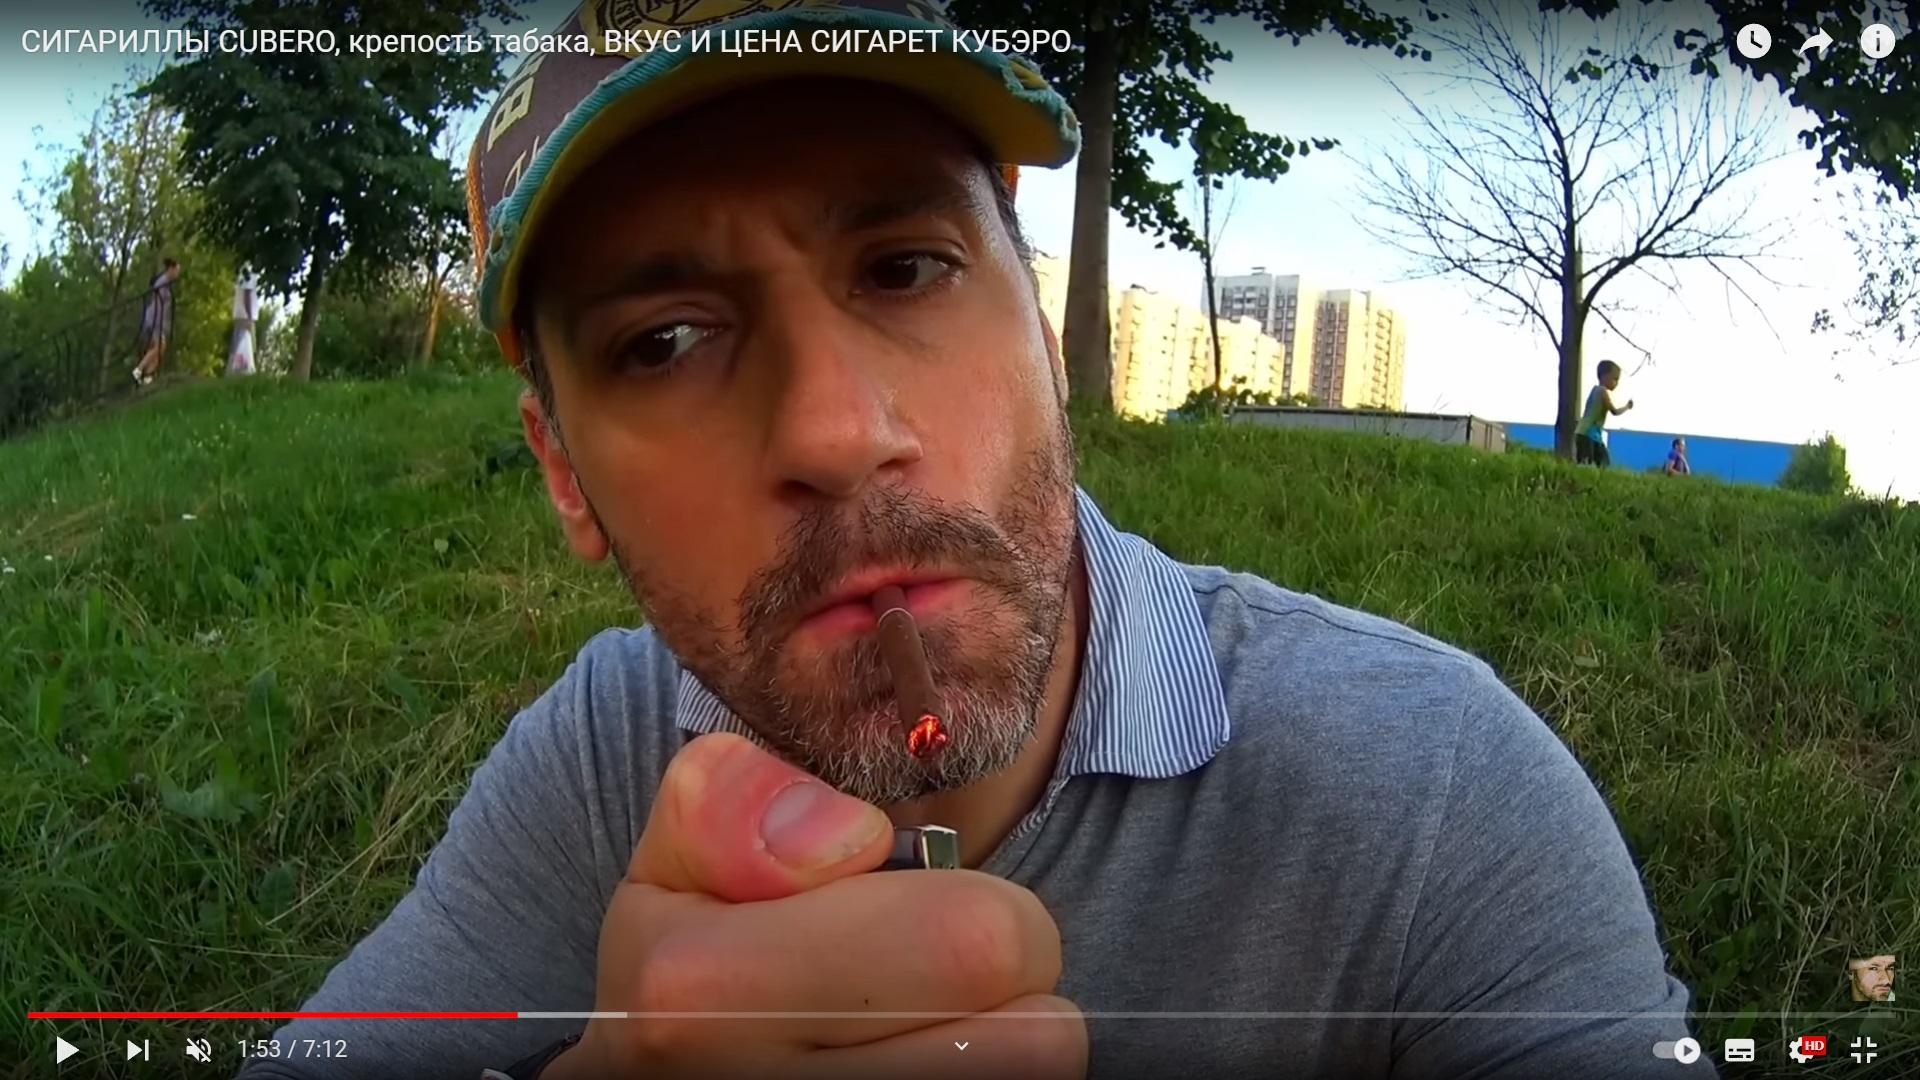cigarette: (870, 584, 952, 765)
